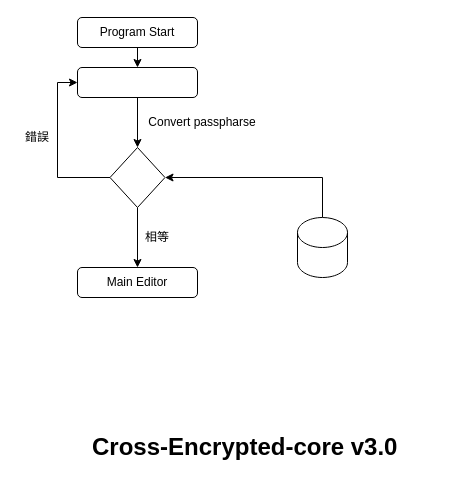
The diagram is 474 pixels wide and 485 high, and some of its shapes have lost their labels. Each missing label, with the box of its shape:
Enter password: (76, 66, 198, 98)
檢查key: (109, 146, 165, 208)
